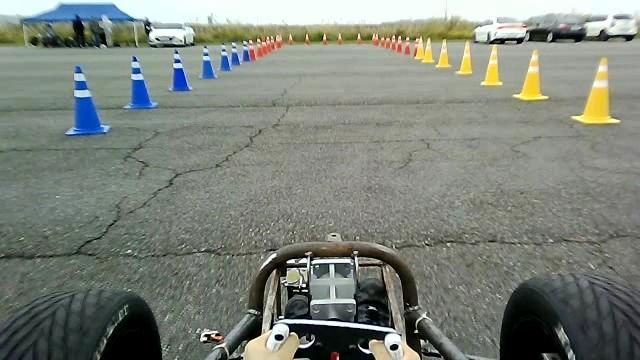blue cone: (64, 64, 110, 135), (122, 55, 158, 109), (167, 48, 192, 92), (198, 44, 218, 79), (218, 42, 232, 71)
yellow cone: (570, 56, 621, 124), (511, 48, 550, 100), (480, 44, 503, 86), (454, 39, 472, 75), (434, 38, 452, 68)
